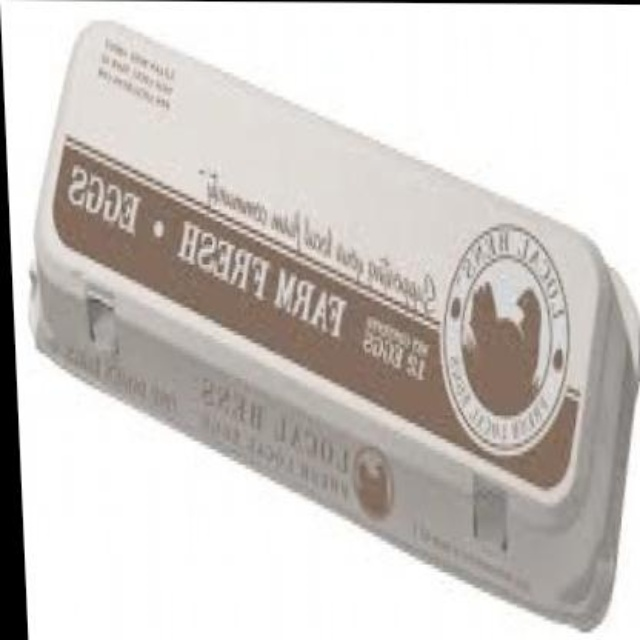trash: (32, 22, 638, 626)
